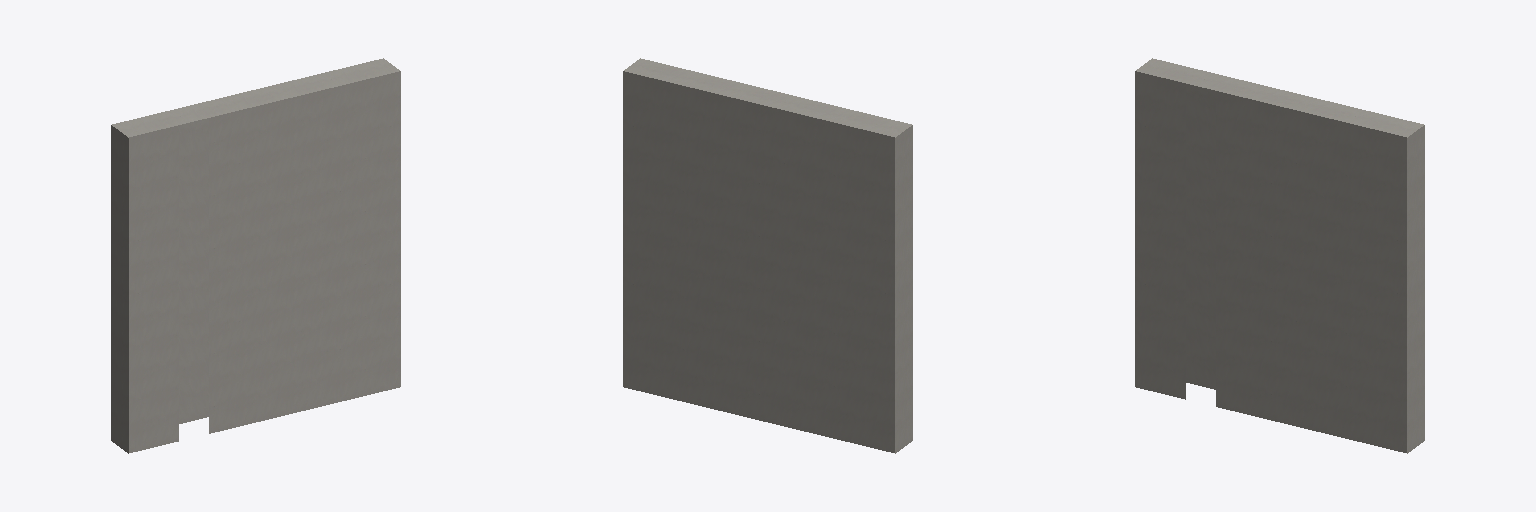
The picture shows the model from 3 angles: view 1: azimuth 30°, elevation 25°; view 2: azimuth 150°, elevation 25°; view 3: azimuth 330°, elevation 25°; orthographic projection.
Parts seen in each view (by area): view 1: Box011; view 2: Box011; view 3: Box011.
Boxes of the visible parts, box(x1,y1,x2,y2) form: Box011: box(111, 58, 400, 453); Box011: box(623, 58, 912, 453); Box011: box(1135, 58, 1424, 453).
Bounding box in the file's own units: 107 × 118 × 11.81.
1 materials, 1 textured.